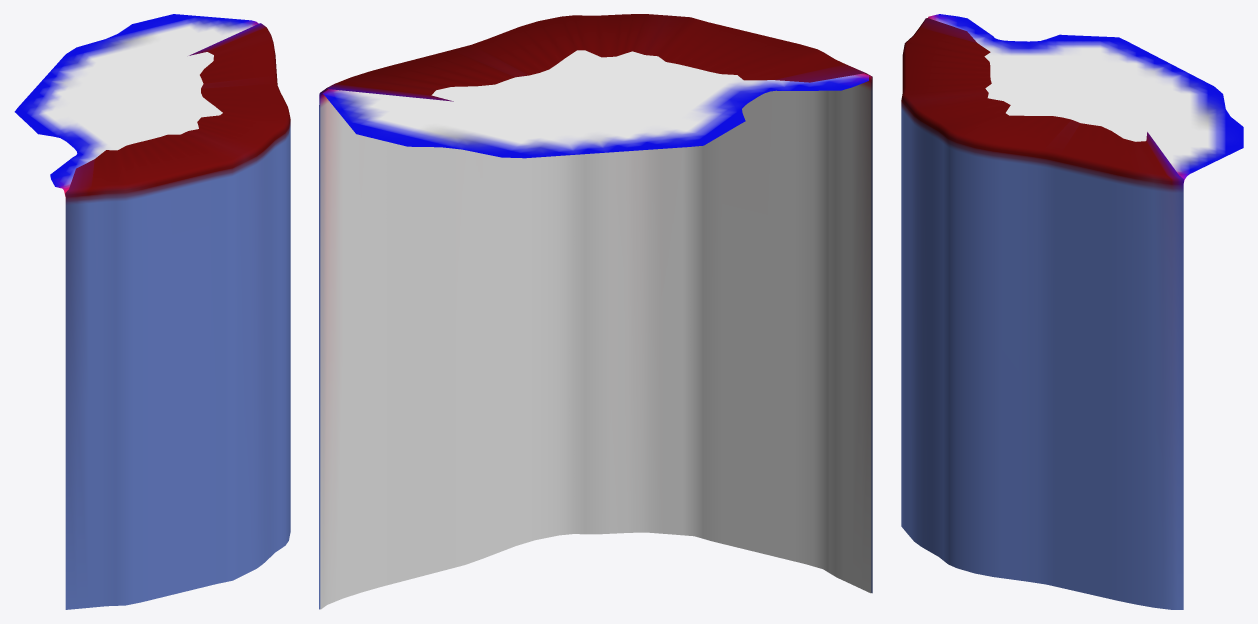
The model's file is Island1Water.fbx.
3 renders of one model, left to right at view 1: azimuth 30°, elevation 25°; view 2: azimuth 150°, elevation 25°; view 3: azimuth 270°, elevation 25°, orthographic. The views are drawn at different scales.
Parts seen in each view (by area): view 1: Water1; view 2: Water1; view 3: Water1.
Boxes of the visible parts, x1,y1,x2,y2 form: Water1: (14,14,290,609); Water1: (319,14,872,609); Water1: (901,14,1243,609).
Bounding box in the file's own units: 119 × 165 × 134.
